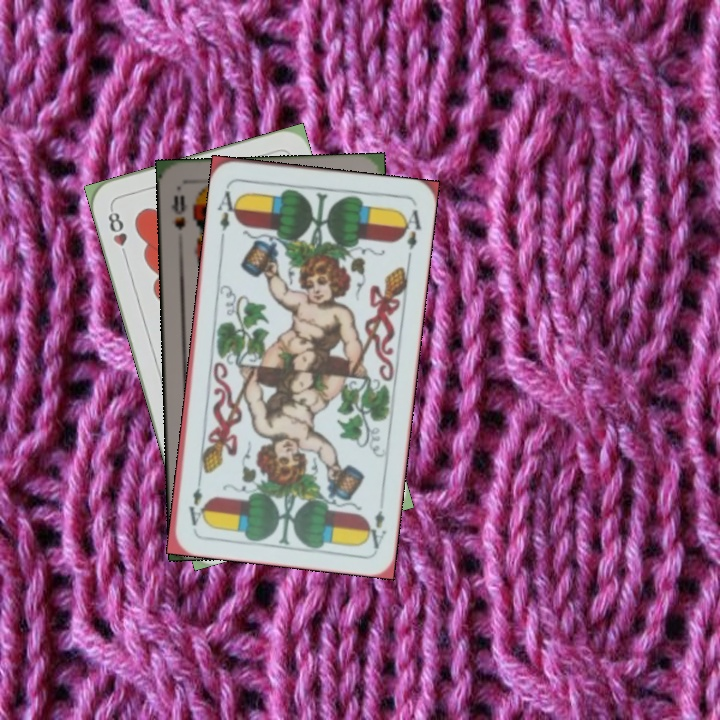EA: (213, 182, 242, 241), (362, 505, 389, 551)
H8: (104, 204, 130, 262)
S8: (167, 191, 189, 233)
